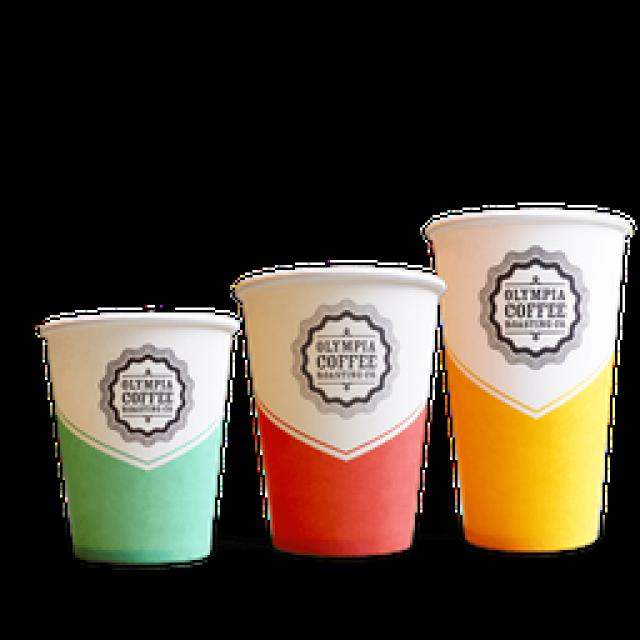paper_cups: (423, 208, 627, 558), (235, 267, 449, 558), (36, 311, 240, 569)
